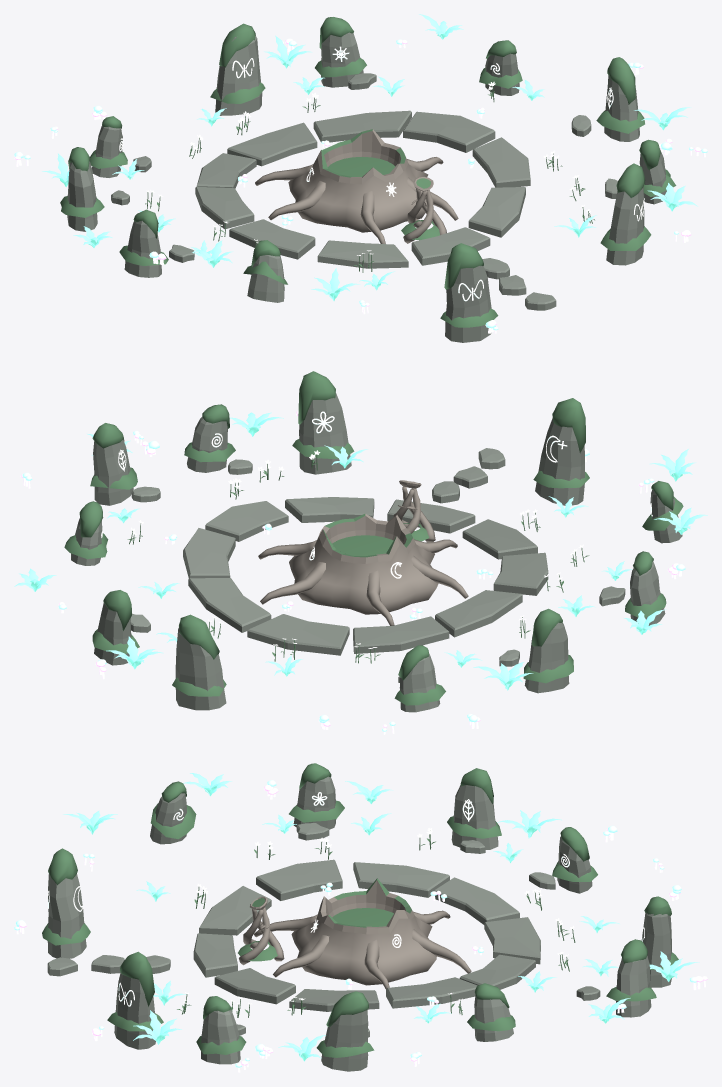
The model's file is ClaroExterior.glb.
The picture shows the model from 3 angles, top to bottom: view 1: azimuth 30°, elevation 25°; view 2: azimuth 150°, elevation 25°; view 3: azimuth 270°, elevation 25°; orthographic projection. The views are drawn at different scales.
Visible parts, largest first — view 1: ClaroAnilloPiedras, ClaroPedestal, ClaroFloraMagica, ClaroAtrilRaiz; view 2: ClaroAnilloPiedras, ClaroPedestal, ClaroFloraMagica, ClaroAtrilRaiz; view 3: ClaroAnilloPiedras, ClaroPedestal, ClaroFloraMagica, ClaroAtrilRaiz.
Part boxes in pixels (x1=…): ClaroAnilloPiedras: x1=60, y1=17, x2=676, y2=342; ClaroPedestal: x1=255, y1=129, x2=458, y2=243; ClaroFloraMagica: x1=14, y1=14, x2=707, y2=333; ClaroAtrilRaiz: x1=401, y1=176, x2=446, y2=243; ClaroAnilloPiedras: x1=64, y1=371, x2=683, y2=712; ClaroPedestal: x1=258, y1=513, x2=468, y2=625; ClaroFloraMagica: x1=14, y1=410, x2=707, y2=734; ClaroAtrilRaiz: x1=393, y1=480, x2=435, y2=542; ClaroAnilloPiedras: x1=42, y1=763, x2=678, y2=1071; ClaroPedestal: x1=254, y1=878, x2=471, y2=988; ClaroFloraMagica: x1=14, y1=773, x2=707, y2=1072; ClaroAtrilRaiz: x1=238, y1=896, x2=284, y2=965.
Size of the model in its own units: 15.19 by 2.58 by 15.21.
